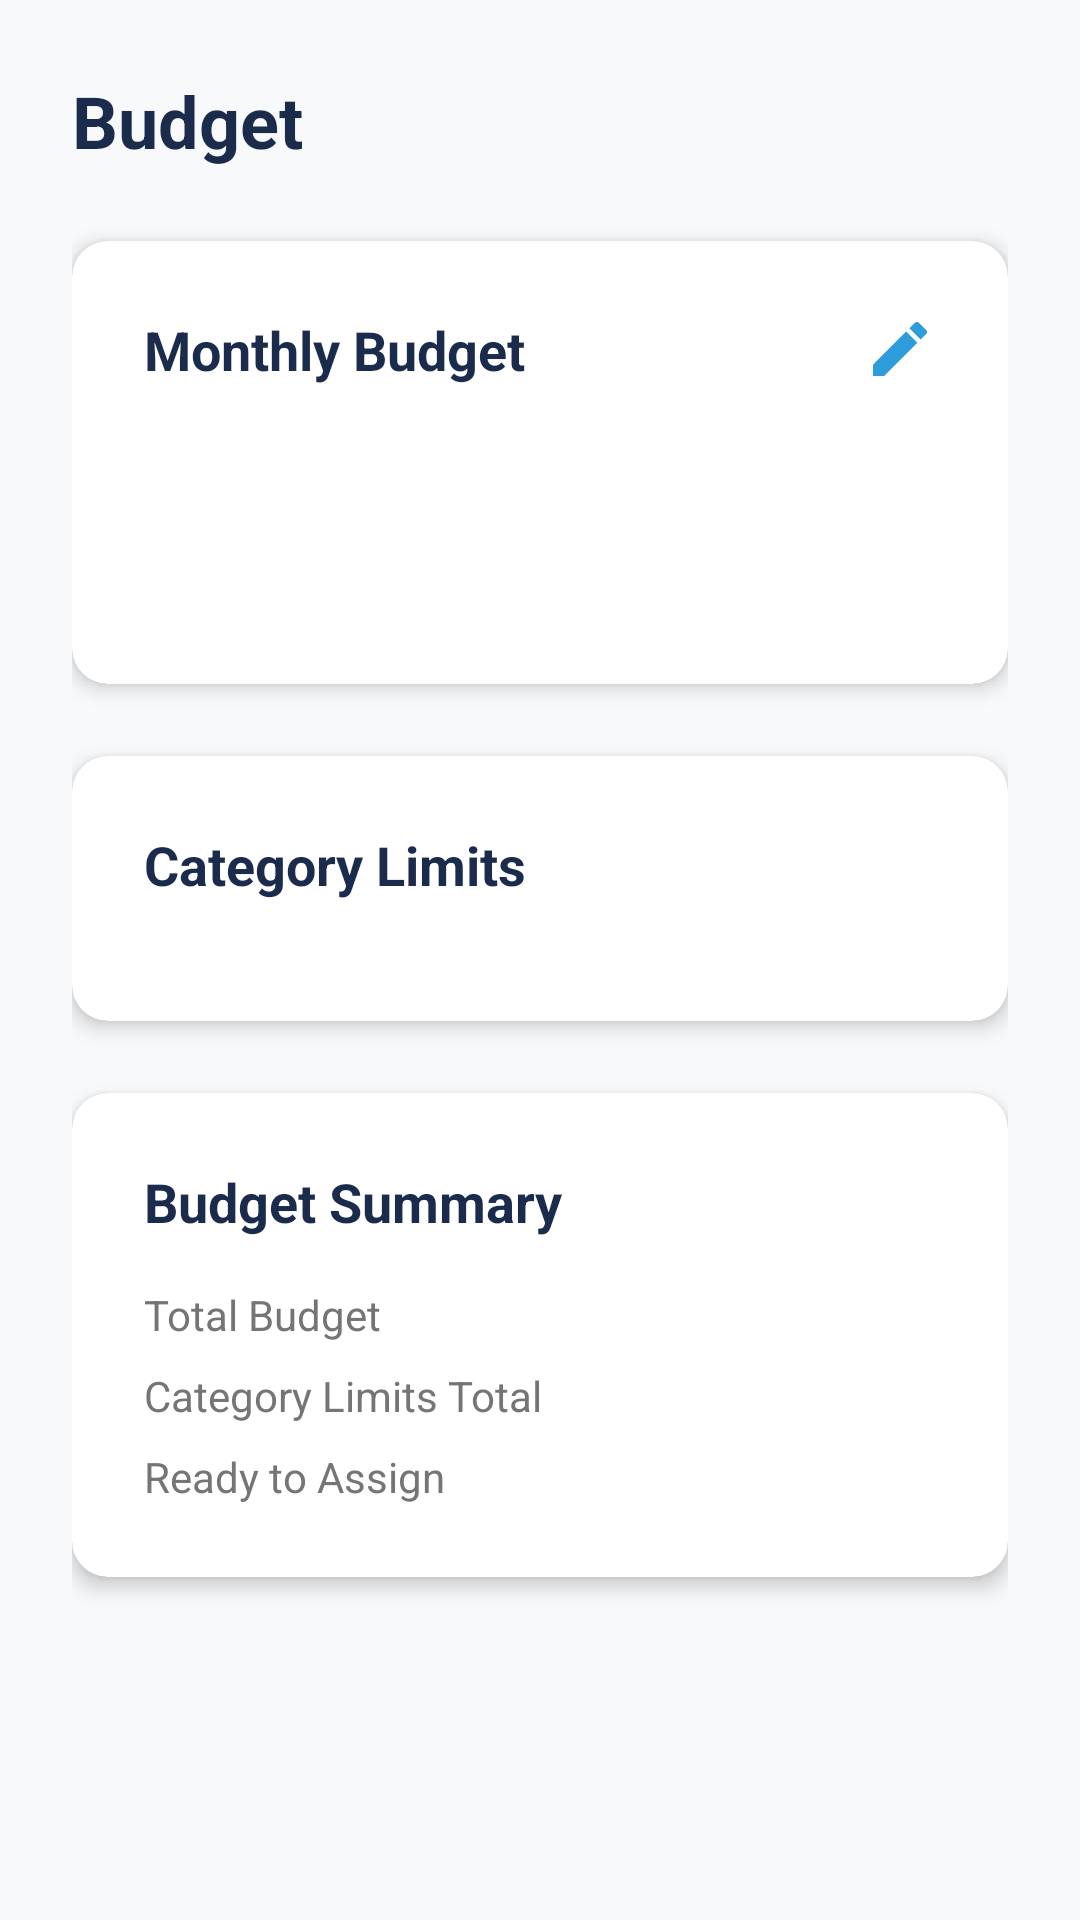

Named icons in this screenshot (1080px×1920px) and their centers, [x,y]:
Edit: [900,349]
